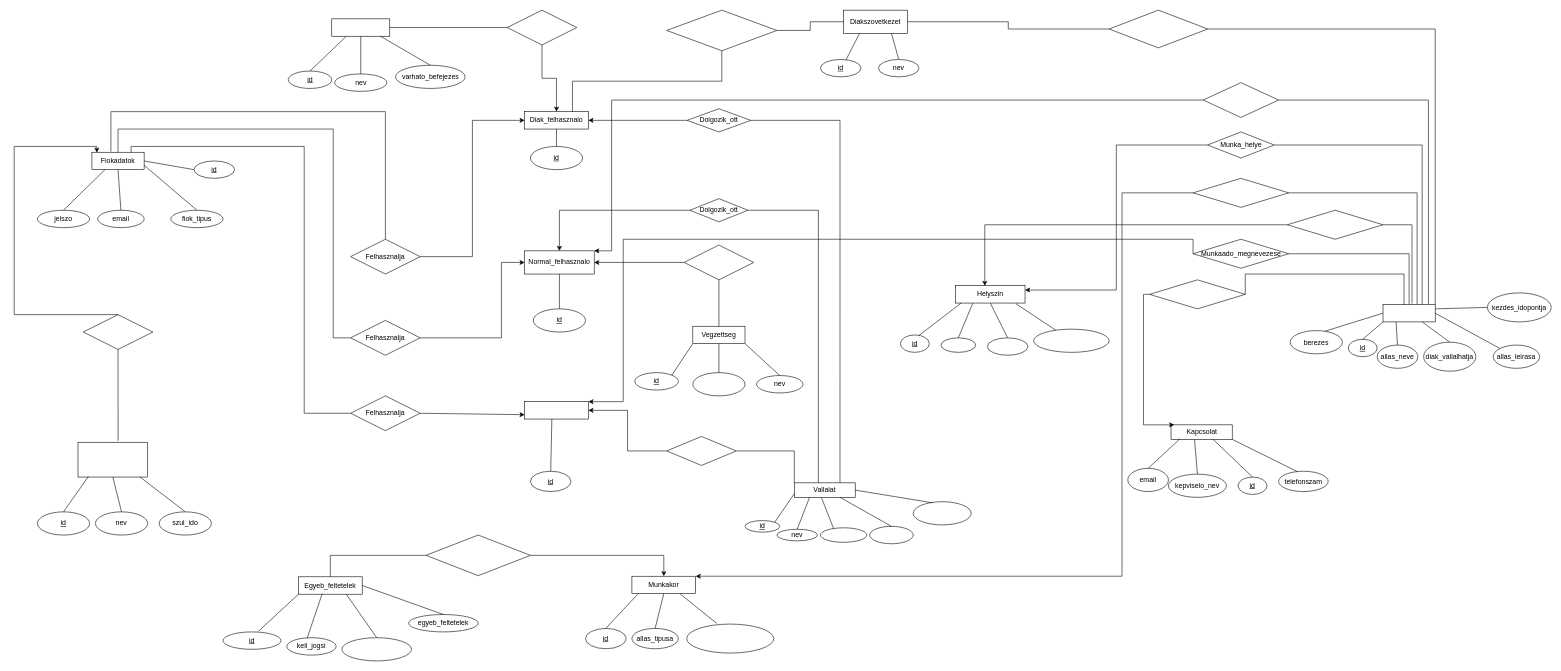
The diagram is 1561 pixels wide and 671 high, and some of its shapes have lost their labels. The centre of each missing label's shape, as x and y in pixels:
Allas: the point at 1408,313
Diakszovetkezetnel_van: the point at 721,30
Elvegezte: the point at 719,262
ertekeles: the point at 843,534
Feltetelekkel_rendelkezik: the point at 477,555
Helyszin_megnevezese: the point at 1335,224
Hirdet_ott: the point at 701,450
Hirdeto: the point at 556,410
Ide jart: the point at 542,27
intezmeny: the point at 718,384
Iskola: the point at 360,27
jegyzett_toke: the point at 942,513
Jelentkezok: the point at 1241,99
Kapcsolattarto_neve: the point at 1197,294
Munkakor_megnevezese: the point at 1240,192
munkatapasztalat_ev: the point at 376,649
orszag: the point at 958,344
Regisztralt_allasok: the point at 1158,29
Szemelyes_adatok: the point at 112,459
szukseges_vegzettseg: the point at 730,638
Tartalmazza: the point at 118,331
tavolrol_vegezheto_e: the point at 1071,340
tulajdonos: the point at 891,535
varos: the point at 1007,346
